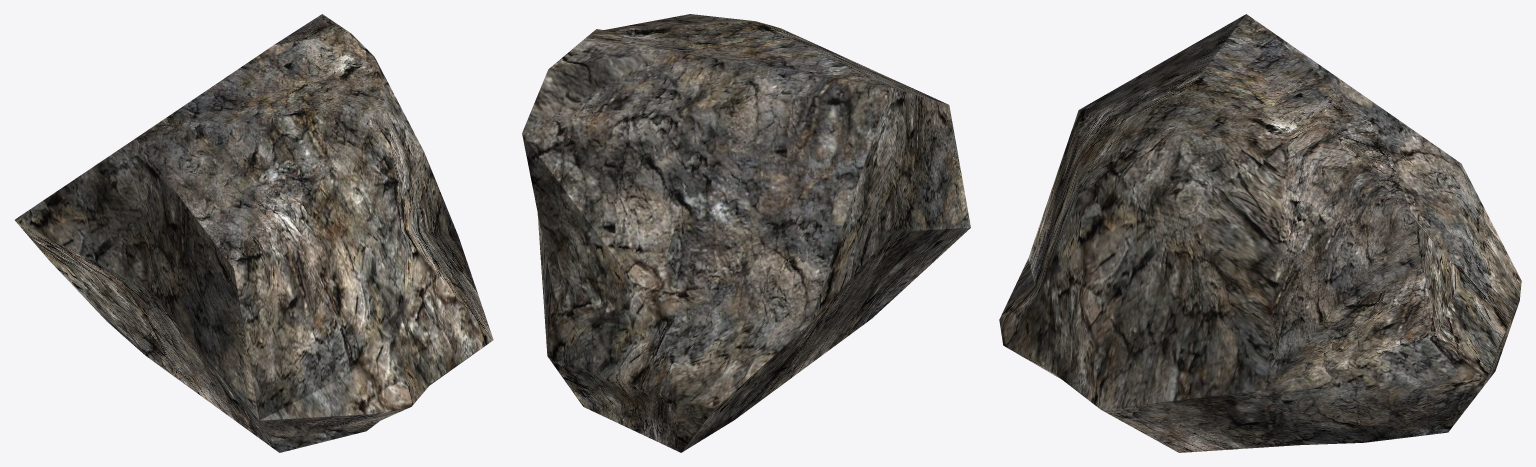
Rendered from pir_m_prp_cav_rock_b.fbx.
The picture shows the model from 3 angles, left to right: view 1: azimuth 30°, elevation 25°; view 2: azimuth 150°, elevation 25°; view 3: azimuth 270°, elevation 25°; orthographic projection. The views are drawn at different scales.
Parts seen in each view (by area): view 1: lod_high; view 2: lod_high; view 3: lod_high.
Part boxes in pixels (bbox=[...]): lod_high: bbox=[15, 14, 493, 452]; lod_high: bbox=[522, 14, 970, 452]; lod_high: bbox=[999, 14, 1521, 452].
Bounding box in the file's own units: 2454 × 2080 × 2902.
1 material, 1 textured.
